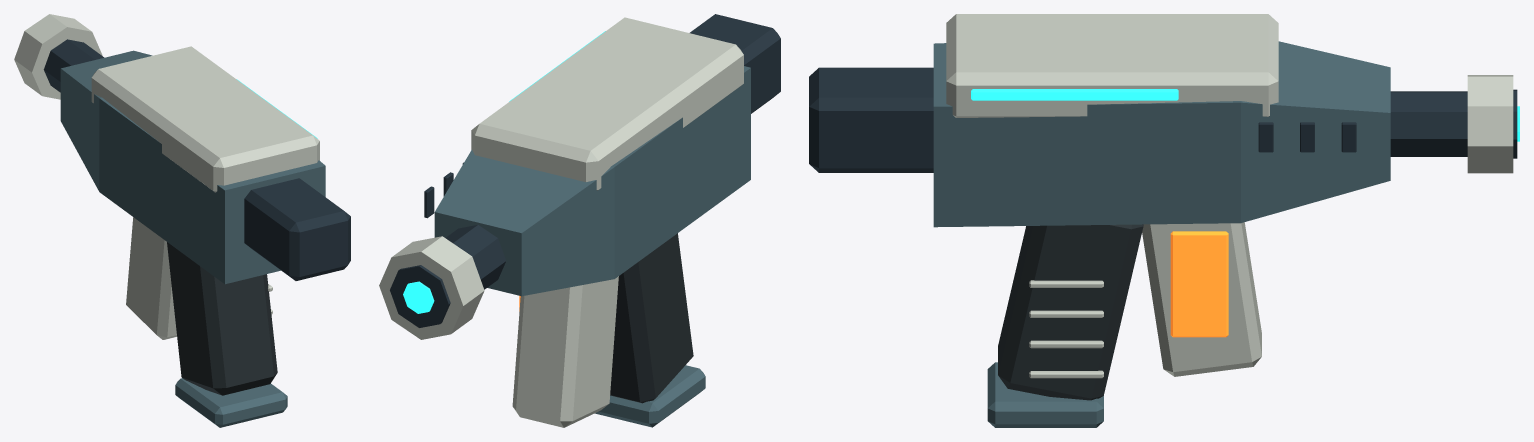
The model's file is 03_flicker_smg.glb.
3 views of the same model, side by side, from view 1: azimuth 30°, elevation 25°; view 2: azimuth 150°, elevation 25°; view 3: azimuth 270°, elevation 25° (orthographic). The views are drawn at different scales.
Parts seen in each view (by area): view 1: compact receiver, upper shell, grip.001, rear brace, battery magazine, muzzle collar.001, grip heel.001, barrel.001; view 2: compact receiver, upper shell, battery magazine, grip.001, muzzle collar.001, rear brace, grip heel.001, muzzle aperture.001, barrel.001, muzzle ion core.001; view 3: compact receiver, upper shell, grip.001, rear brace, battery magazine, magazine inset, barrel.001, muzzle collar.001, grip heel.001, luminous flank.001, grip rib.006.
Boxes of the visible parts, left/top/right/bottom form: compact receiver: left=60, top=50, right=325, bottom=284; upper shell: left=91, top=46, right=319, bottom=192; grip.001: left=167, top=242, right=277, bottom=395; rear brace: left=244, top=178, right=350, bottom=280; battery magazine: left=126, top=217, right=176, bottom=339; muzzle collar.001: left=14, top=14, right=102, bottom=99; grip heel.001: left=175, top=378, right=287, bottom=427; barrel.001: left=43, top=39, right=104, bottom=92; compact receiver: left=434, top=66, right=750, bottom=296; upper shell: left=471, top=17, right=743, bottom=190; battery magazine: left=512, top=276, right=618, bottom=427; grip.001: left=610, top=233, right=693, bottom=403; muzzle collar.001: left=379, top=236, right=484, bottom=339; rear brace: left=690, top=14, right=780, bottom=113; grip heel.001: left=595, top=365, right=705, bottom=427; muzzle aperture.001: left=390, top=265, right=450, bottom=327; barrel.001: left=445, top=225, right=505, bottom=289; muzzle ion core.001: left=403, top=281, right=434, bottom=313; compact receiver: left=933, top=41, right=1390, bottom=227; upper shell: left=946, top=14, right=1278, bottom=117; grip.001: left=998, top=224, right=1143, bottom=400; rear brace: left=809, top=67, right=933, bottom=172; battery magazine: left=1142, top=222, right=1261, bottom=376; magazine inset: left=1170, top=231, right=1228, bottom=337; barrel.001: left=1390, top=91, right=1467, bottom=156; muzzle collar.001: left=1467, top=75, right=1513, bottom=173; grip heel.001: left=987, top=362, right=1103, bottom=427; luminous flank.001: left=971, top=89, right=1178, bottom=100; grip rib.006: left=1029, top=340, right=1103, bottom=348.
Size of the model in its own units: 0.205 by 0.485 by 0.8555.
